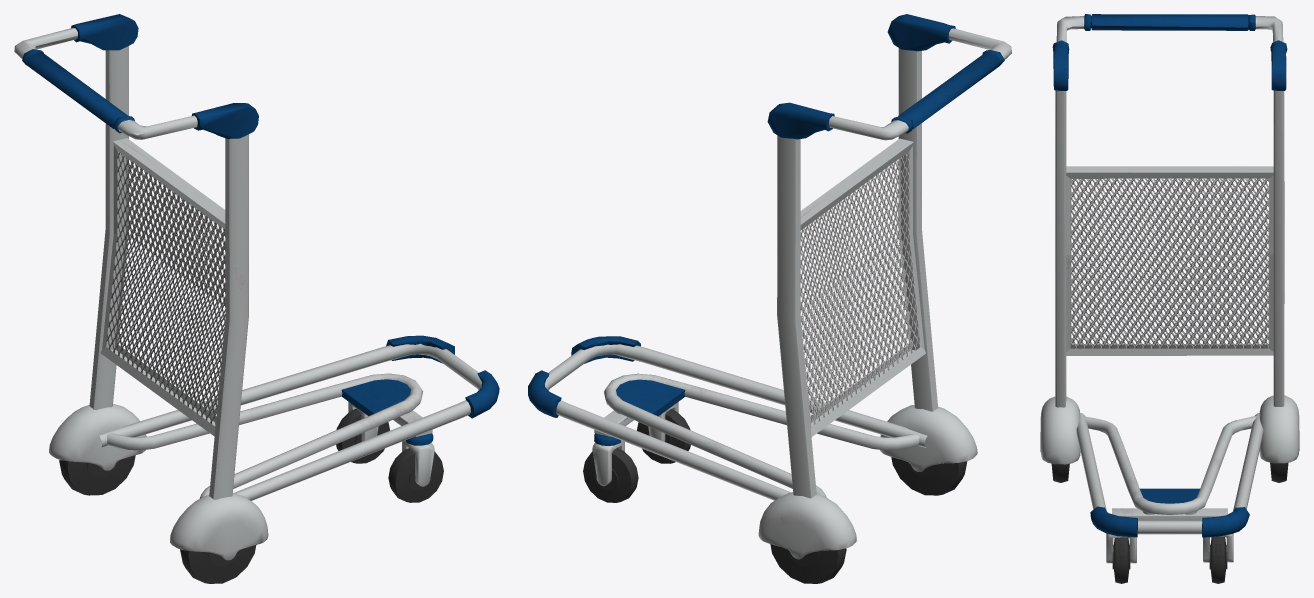
Rendered from trolly.fbx.
The picture shows the model from 3 angles, left to right: view 1: azimuth 30°, elevation 25°; view 2: azimuth 150°, elevation 25°; view 3: azimuth 270°, elevation 25°; orthographic projection. The views are drawn at different scales.
Visible parts, largest first — view 1: trolly, wheel, wheel1; view 2: trolly, wheel1, wheel; view 3: trolly, wheel, wheel1.
Boxes of the visible parts, box(x1,y1,x2,y2) form: trolly: box(14, 14, 499, 583); wheel: box(388, 433, 443, 502); wheel1: box(336, 401, 389, 463); trolly: box(528, 14, 1011, 583); wheel1: box(583, 433, 638, 502); wheel: box(637, 402, 690, 463); trolly: box(1040, 14, 1299, 537); wheel: box(1106, 533, 1136, 583); wheel1: box(1203, 533, 1233, 583).
Size of the model in its own units: 63.79 by 71.33 by 39.05.
